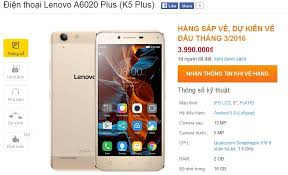lenovo: (90, 28, 166, 172)
